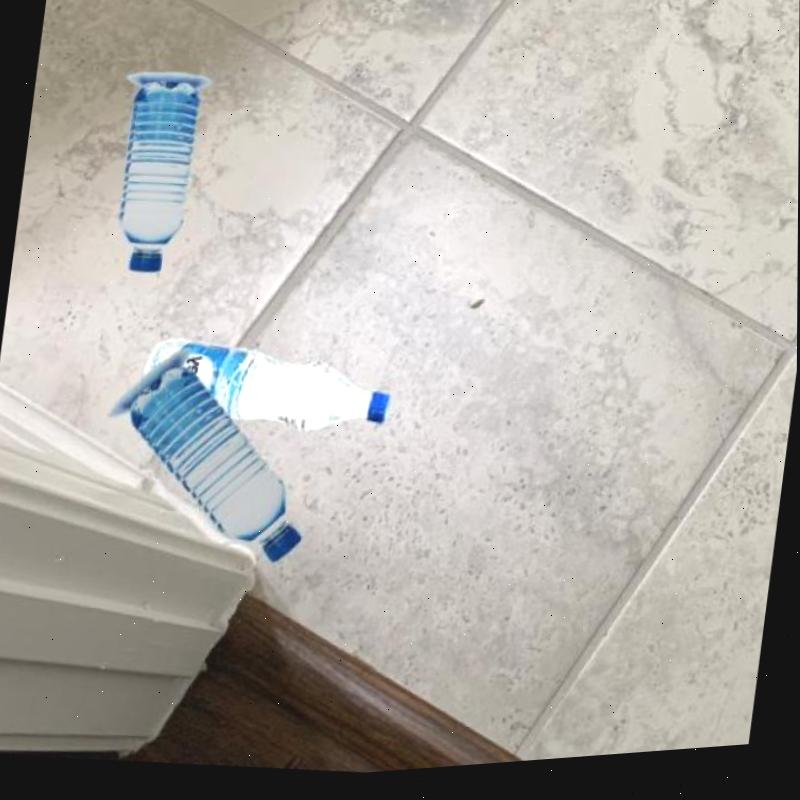botella: (111, 355, 325, 583), (138, 330, 395, 454), (110, 73, 201, 277)
